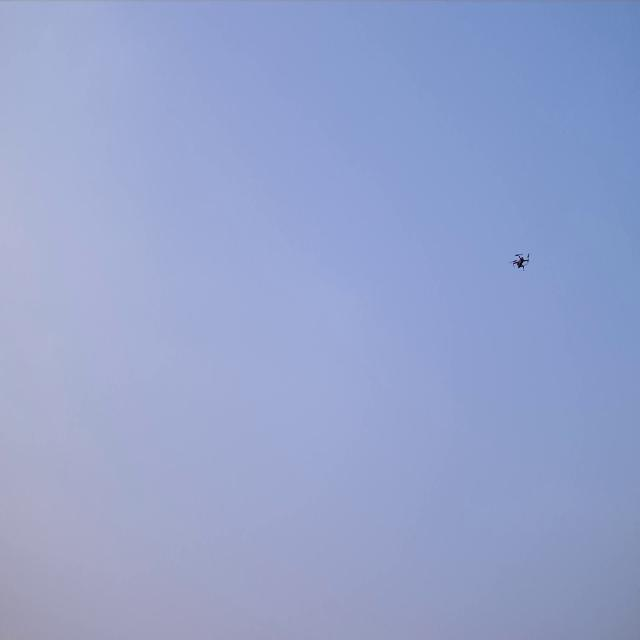UAV: (514, 254, 528, 268)
